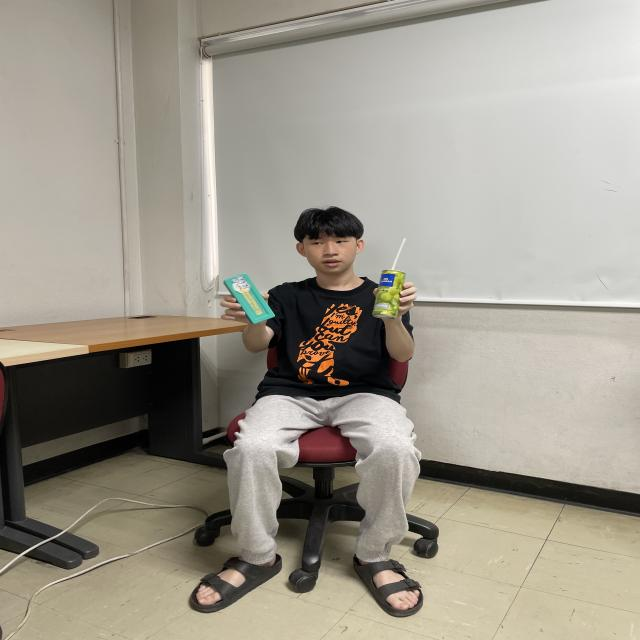can: (371, 269, 408, 320)
